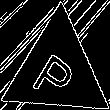P_NE: (30, 39, 84, 102)
